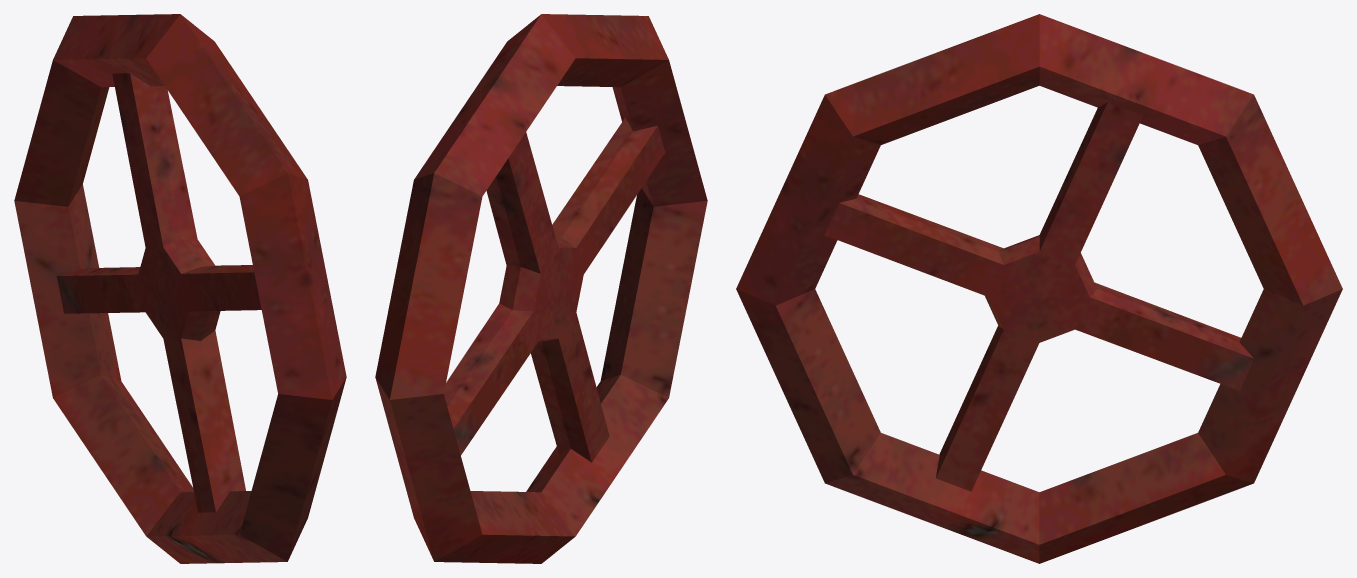
Rendered from Urban_ValveRed_Model.fbx.
The picture shows the model from 3 angles, left to right: view 1: azimuth 30°, elevation 25°; view 2: azimuth 150°, elevation 25°; view 3: azimuth 270°, elevation 25°; orthographic projection.
Parts seen in each view (by area): view 1: Urban_ValveRed_Mesh; view 2: Urban_ValveRed_Mesh; view 3: Urban_ValveRed_Mesh.
Part boxes in pixels (bbox=[...]): Urban_ValveRed_Mesh: bbox=[14, 14, 346, 563]; Urban_ValveRed_Mesh: bbox=[375, 14, 707, 563]; Urban_ValveRed_Mesh: bbox=[736, 14, 1342, 563].
Size of the model in its own units: 0.0544 by 0.4167 by 0.4167.
